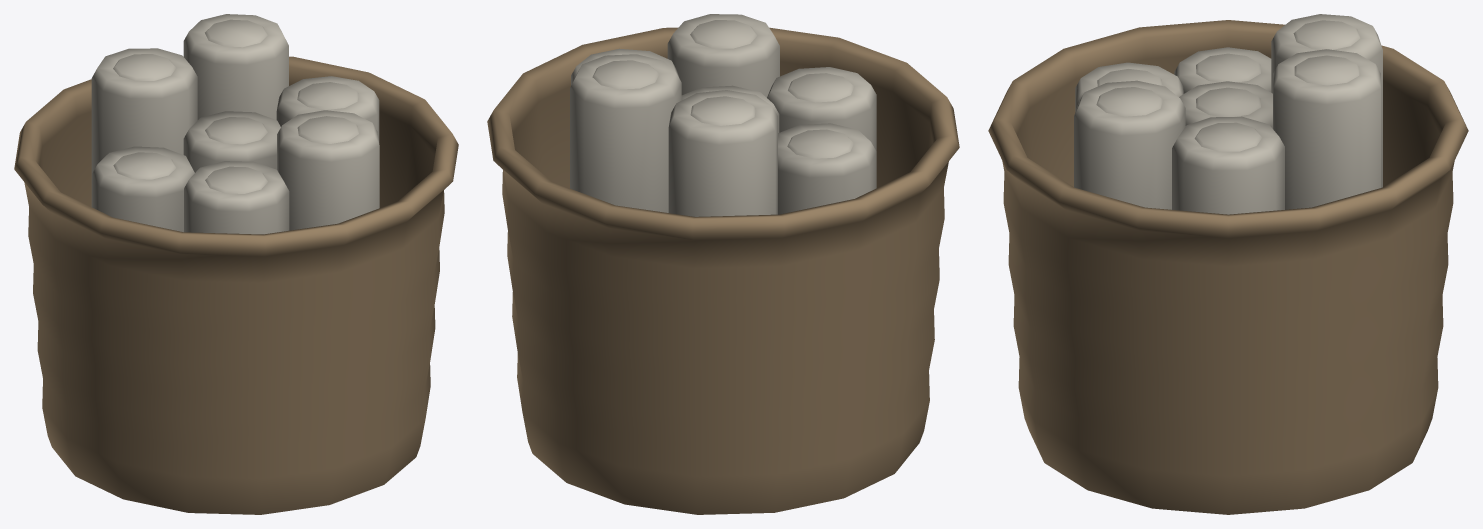
File: decor_c_towel_basket.gltf
3 views of the same model, side by side, from view 1: azimuth 30°, elevation 25°; view 2: azimuth 150°, elevation 25°; view 3: azimuth 270°, elevation 25° (orthographic). The views are drawn at different scales.
Visible parts, largest first — view 1: DecorC_TowelBasket_Wicker, DecorC_TowelBasket_Linen_NoCollide; view 2: DecorC_TowelBasket_Wicker, DecorC_TowelBasket_Linen_NoCollide; view 3: DecorC_TowelBasket_Wicker, DecorC_TowelBasket_Linen_NoCollide.
Boxes of the visible parts, x1,y1,x2,y2 form: DecorC_TowelBasket_Wicker: [14, 56, 458, 514]; DecorC_TowelBasket_Linen_NoCollide: [91, 14, 379, 234]; DecorC_TowelBasket_Wicker: [487, 27, 959, 514]; DecorC_TowelBasket_Linen_NoCollide: [570, 14, 876, 216]; DecorC_TowelBasket_Wicker: [988, 20, 1468, 514]; DecorC_TowelBasket_Linen_NoCollide: [1074, 14, 1382, 214].
Bounding box in the file's own units: 0.424 × 0.3764 × 0.424.
